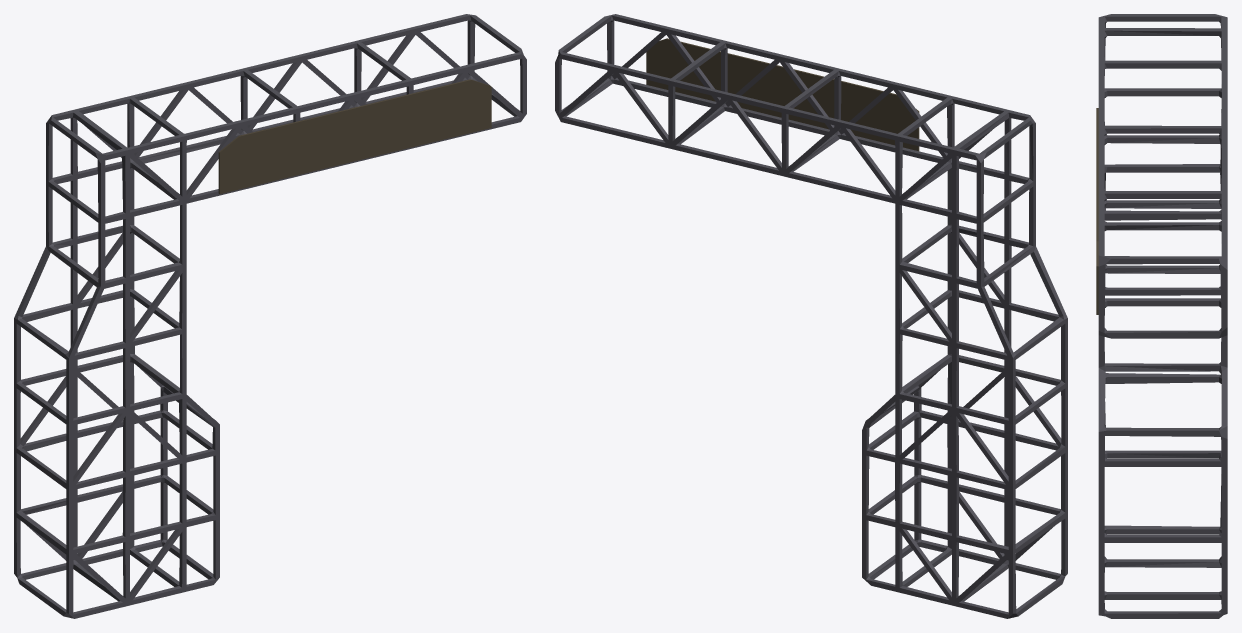
The model's file is LPSciFiCharacter_GantryA.fbx.
3 renders of one model, left to right at view 1: azimuth 30°, elevation 25°; view 2: azimuth 150°, elevation 25°; view 3: azimuth 270°, elevation 25°, orthographic. The views are drawn at different scales.
Visible parts, largest first — view 1: GantryA; view 2: GantryA; view 3: GantryA.
Boxes of the visible parts, left/top/right/bottom form: GantryA: left=14, top=14, right=526, bottom=618; GantryA: left=555, top=14, right=1067, bottom=618; GantryA: left=1096, top=14, right=1227, bottom=618.
Size of the model in its own units: 505 by 480 by 107.
